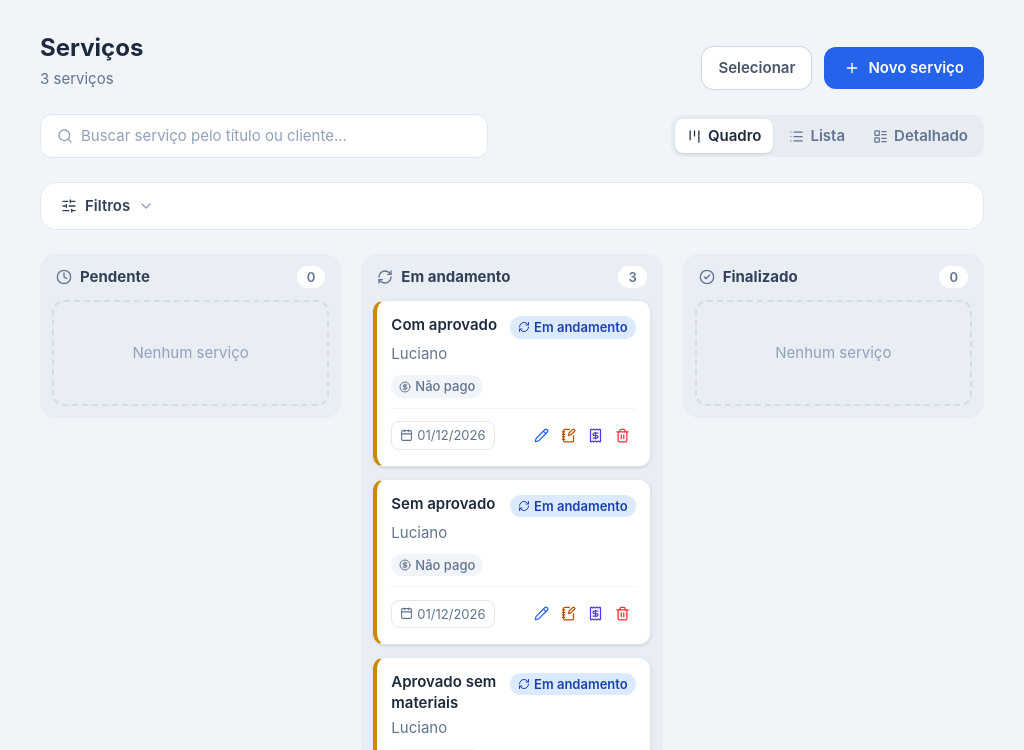
Test: excluir serviço com orçamento aprovado › "Manter descontado" exclui sem devolver; "Cancelar" desiste da exclusão
Expected: the text "Com aprovado" is shown, [391,315,502,336]
Click the 1st button named "Excluir" at (622, 435), box [609,422,636,449]
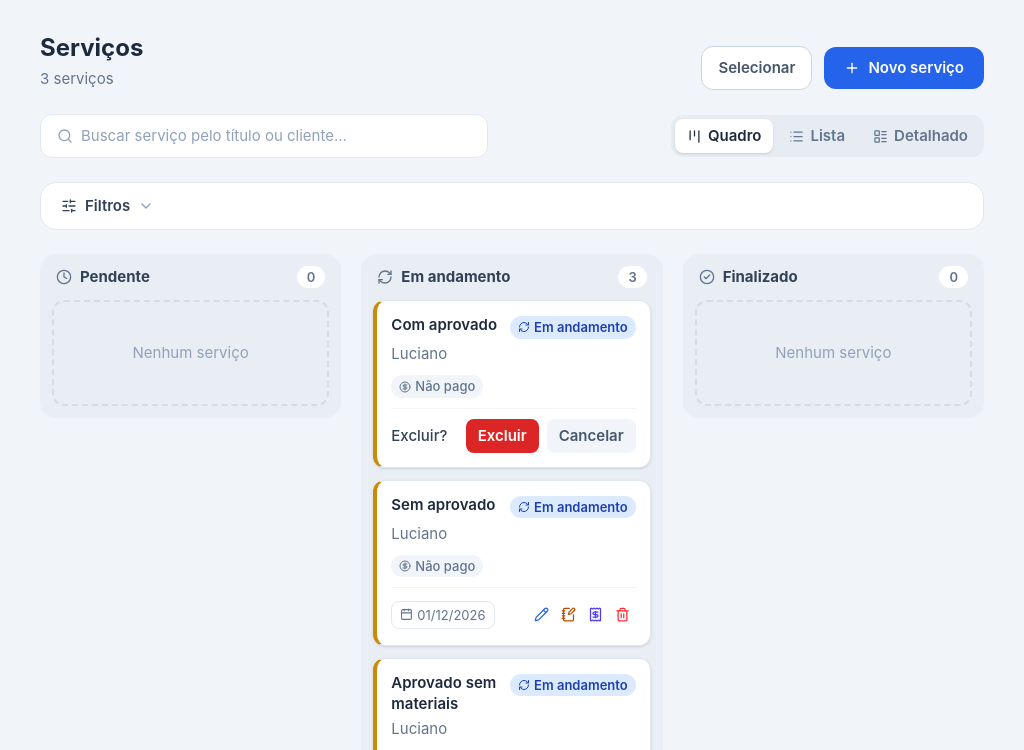
Click the button "Excluir" at (502, 436), box [466,419,539,453]
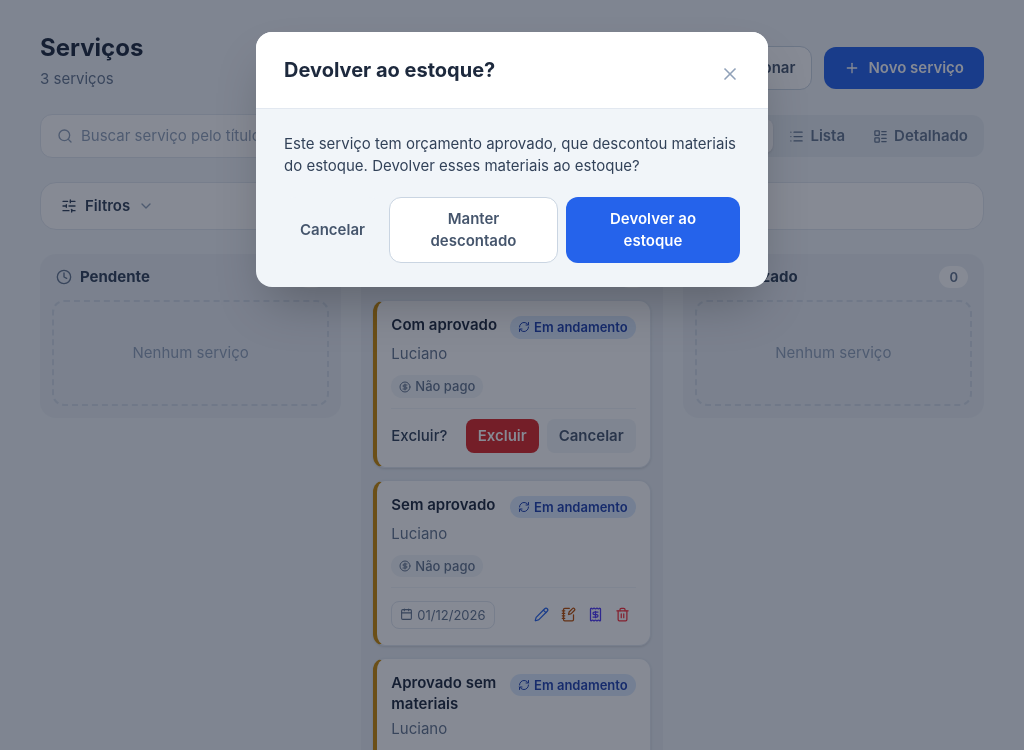
Click the button "Cancelar" at (332, 230), box [284,197,381,263]
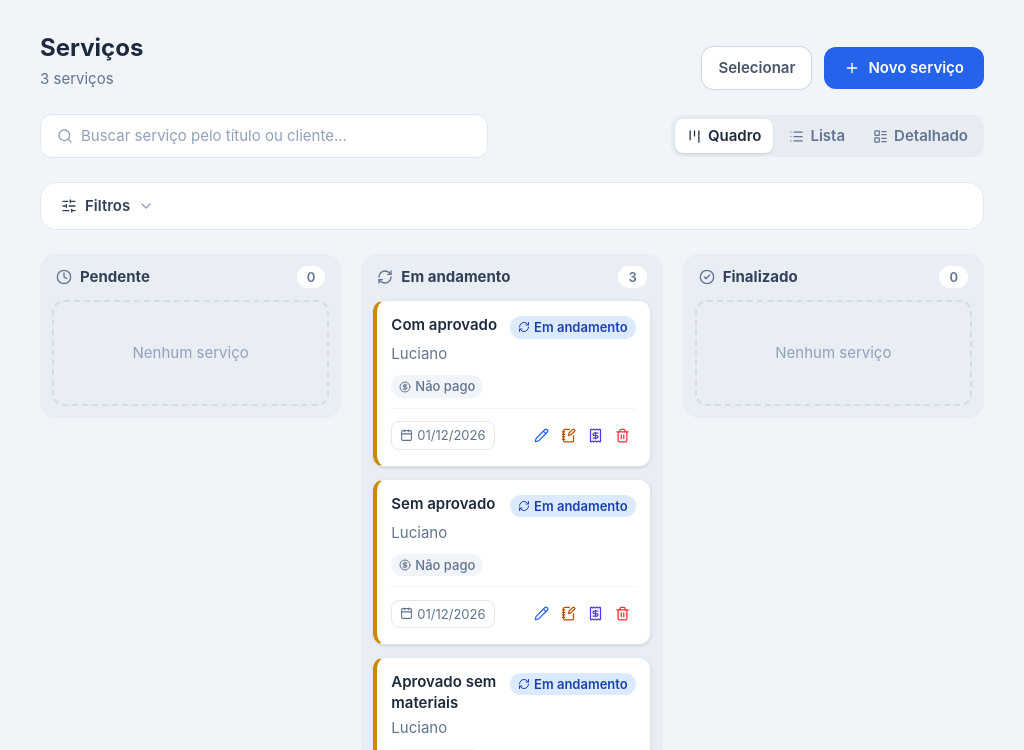
Expected: the text "Com aprovado" is shown, [391,315,502,336]
Expected: the heading "Devolver ao estoque?" is gone
Click the 1st button named "Excluir" at (622, 435), box [609,422,636,449]
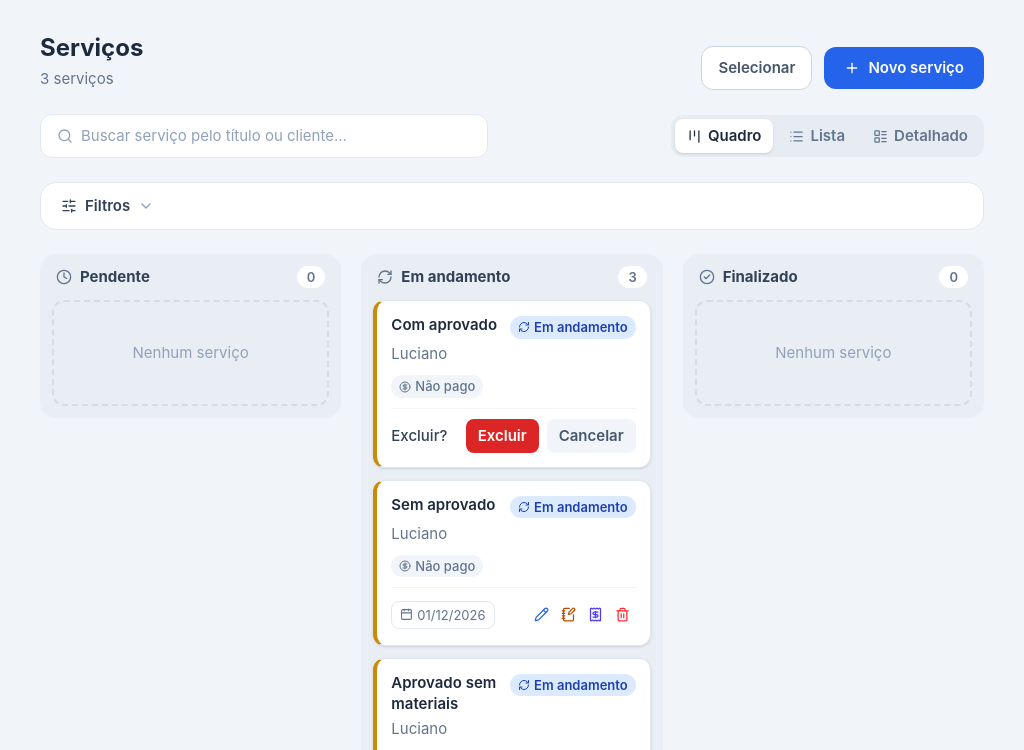
Click the button "Excluir" at (502, 436), box [466,419,539,453]
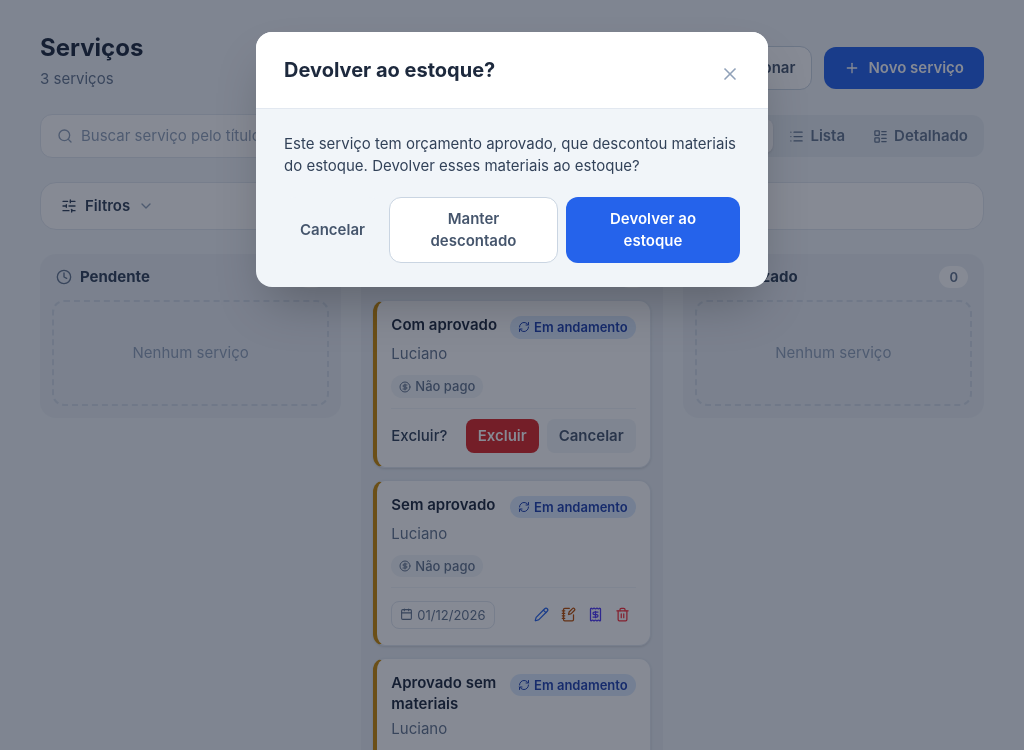
Click the button "Manter descontado" at (474, 230), box [389,197,558,263]
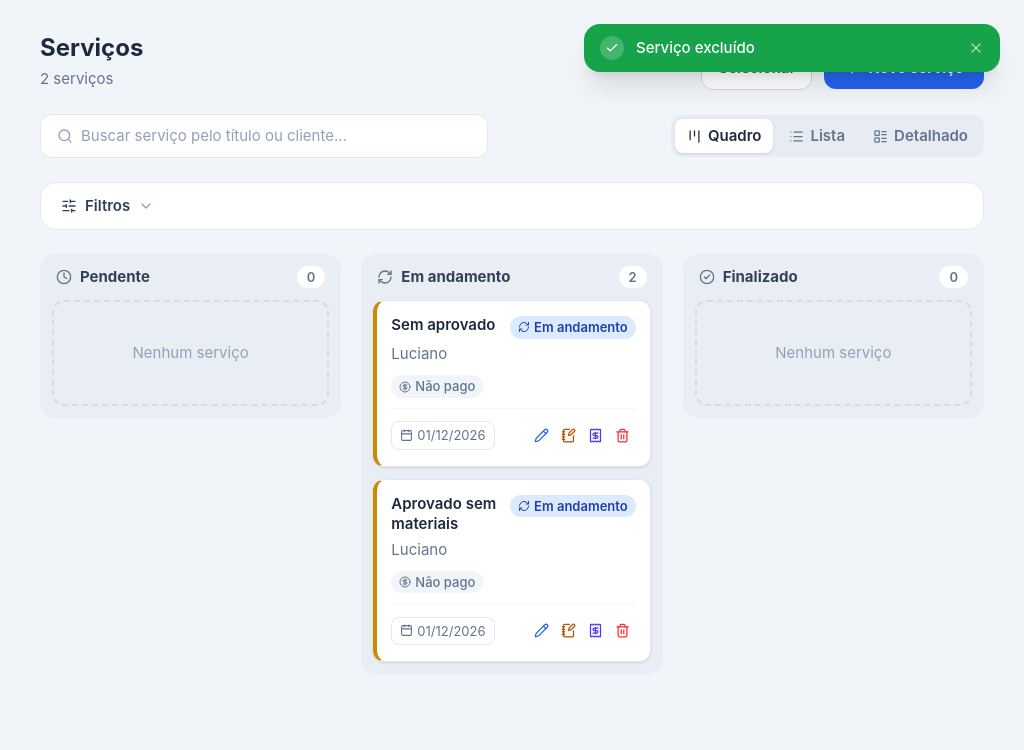
Expected: the text "Serviço excluído" is shown, [636,38,755,57]
